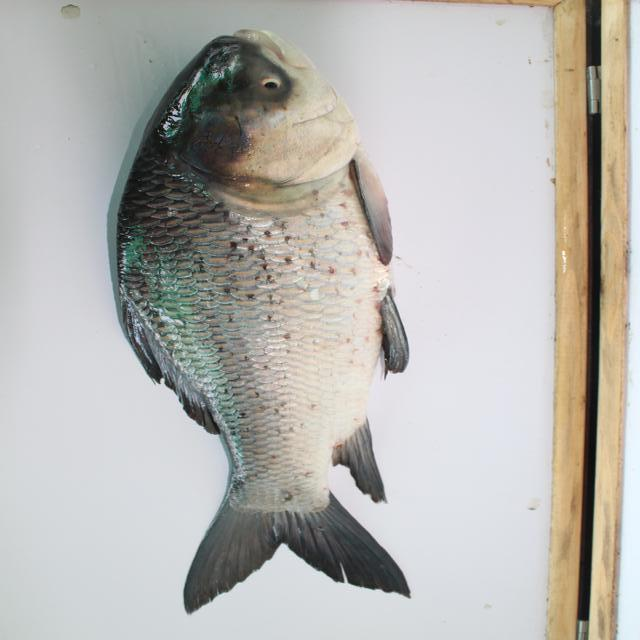Catla: (111, 22, 438, 615)
